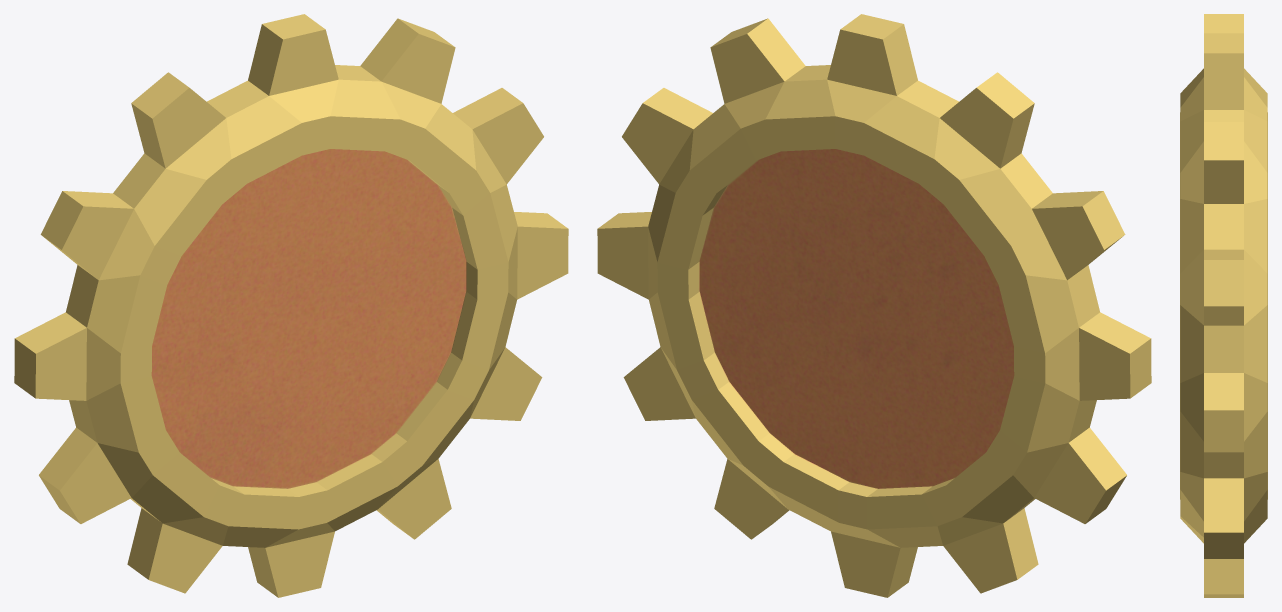
File: Gear_Mesh07.fbx
3 renders of one model, left to right at view 1: azimuth 30°, elevation 25°; view 2: azimuth 150°, elevation 25°; view 3: azimuth 270°, elevation 25°, orthographic. The views are drawn at different scales.
Visible parts, largest first — view 1: Gear_Model07; view 2: Gear_Model07; view 3: Gear_Model07.
Boxes of the visible parts, x1,y1,x2,y2 form: Gear_Model07: (14, 14, 568, 597); Gear_Model07: (597, 14, 1151, 597); Gear_Model07: (1180, 14, 1267, 597).
Bounding box in the file's own units: 8.56 × 8.56 × 1.29.
